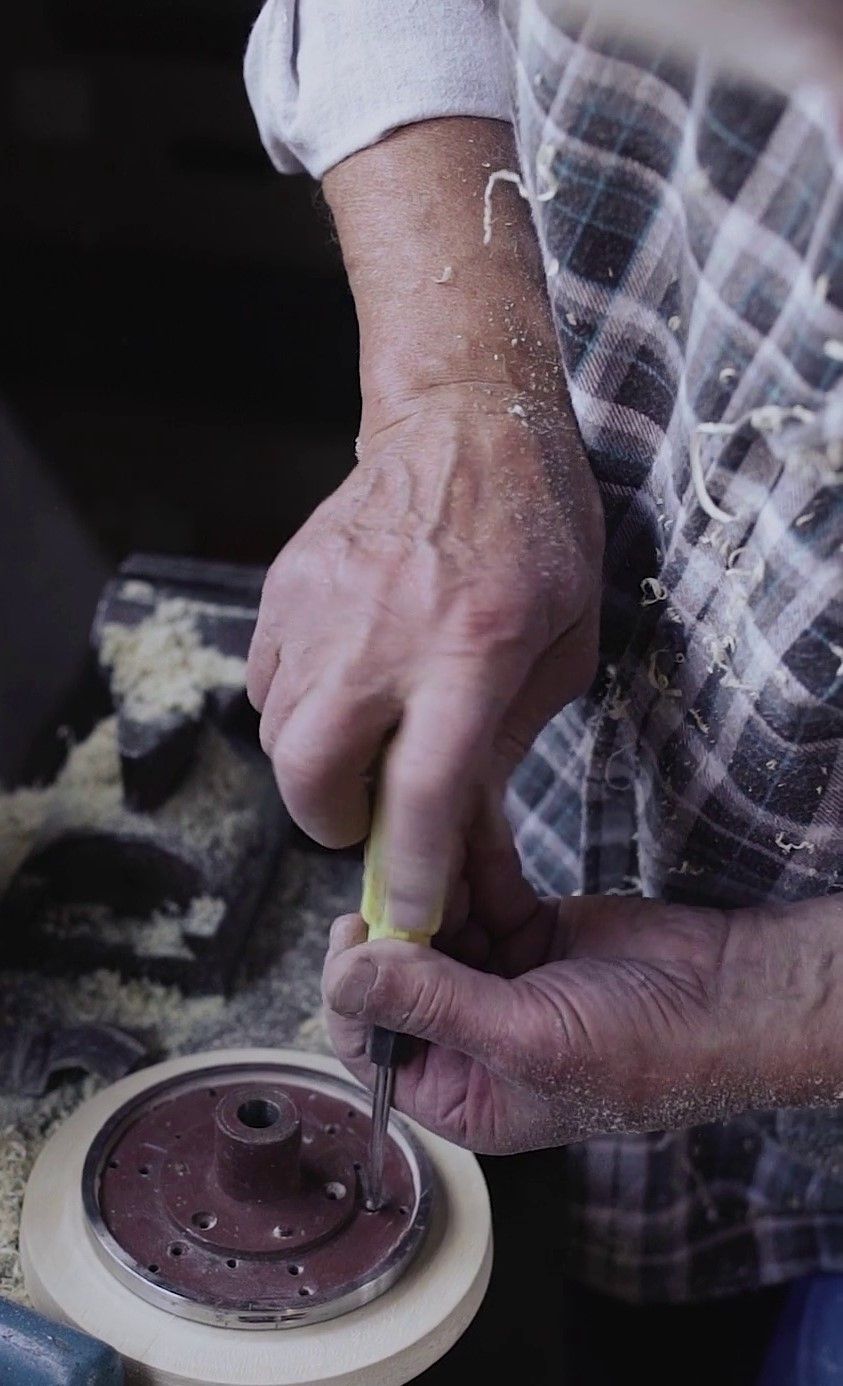screwdriver: (357, 738, 462, 1208)
